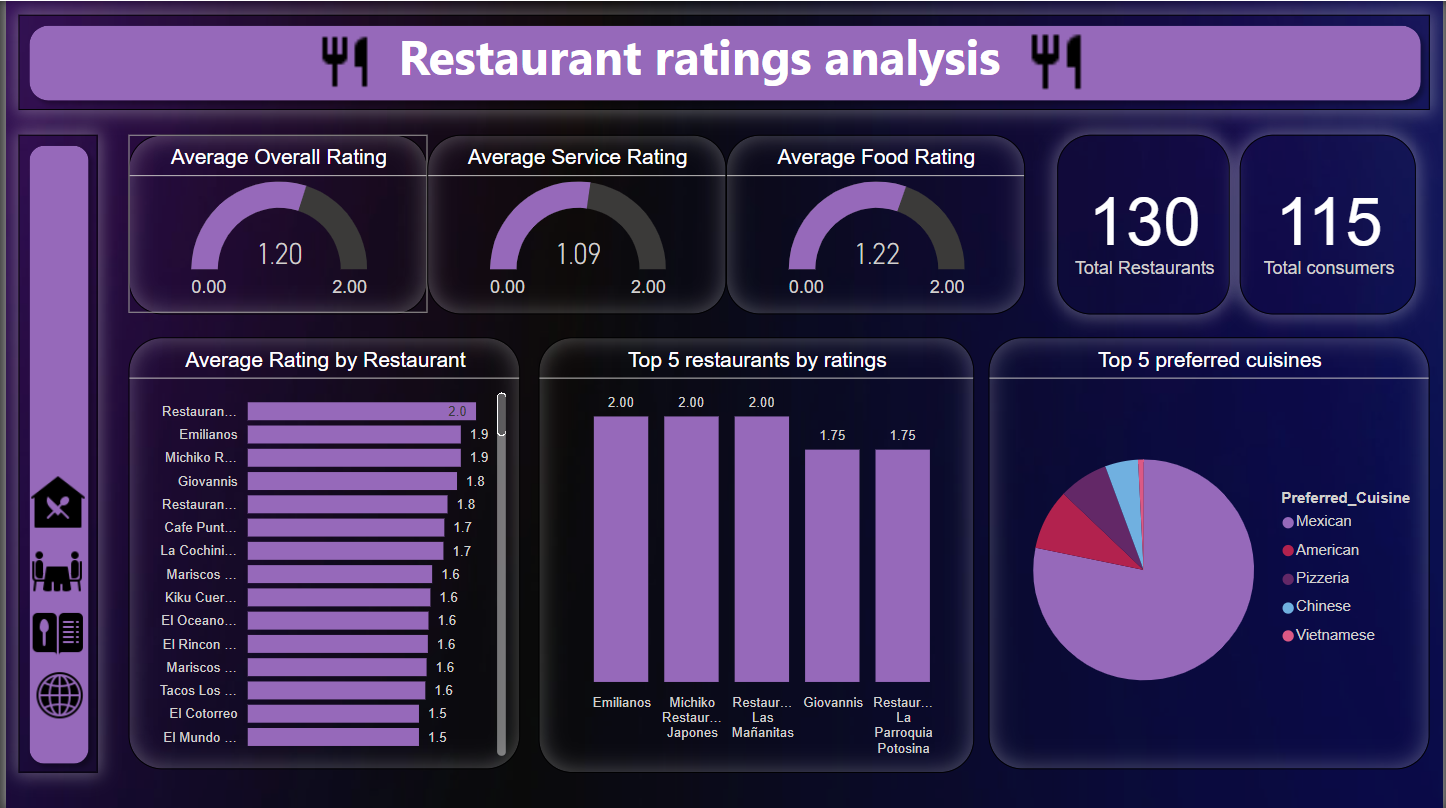

The dashboard page shown, as its layout file describes it:
{"tool":"powerbi","page":{"name":"Home page","canvas":[1280,720],"ordinal":0},"visuals":[{"type":"card","fields":{"Values":["CountNonNull(restaurants.Restaurant_ID)"]},"box":[936,119,153.4,159.7],"z":0},{"type":"card","fields":{"Values":["Count(consumers.Consumer_ID)"]},"box":[1098.8,119,156.5,159.7],"z":1000},{"type":"columnChart","title":"Top 5 restaurants by ratings","fields":{"Category":["restaurants.Name"],"Y":["Measures (2).Avg_of_overall_Rating"]},"box":[474.3,299,388.2,388.2],"z":2000},{"type":"shape","box":[11,12.5,1256.9,84.5],"z":3000},{"type":"shape","box":[11,119,70.4,568.2],"z":4000},{"type":"textbox","box":[0,14.1,1235,70.4],"z":5000},{"type":"pieChart","title":"Top 5 preferred cuisines","fields":{"Y":["Count(consumer_preferences.Consumer_ID)"],"Category":["dim_consumer_preferences.Preferred_Cuisine"]},"box":[875,299,392.9,385],"z":6000},{"type":"image","box":[270.8,18.8,62.6,70.4],"z":7000},{"type":"image","box":[901.6,18.8,67.3,70.4],"z":8000},{"type":"gauge","title":"Average Overall Rating","fields":{"Y":["Measures (2).Avg_of_overall_Rating"]},"box":[109.6,119,266.1,159.7],"z":9000},{"type":"image","box":[17.2,414.8,59.5,64.2],"z":10000},{"type":"image","box":[18.8,591.7,57.9,54.8],"z":11000},{"type":"image","box":[17.2,479,57.9,57.9],"z":12000},{"type":"image","box":[18.8,536.9,54.8,54.8],"z":13000},{"type":"barChart","title":"Average Rating by Restaurant","fields":{"Category":["dim_restaurants.Name"],"Y":["Measures (2).Average_of_total_rating"]},"box":[109.6,299,349,385],"z":14000},{"type":"gauge","title":"Average Service Rating","fields":{"Y":["Measures (2).Average_of_service_rating"]},"box":[375.7,119,266.1,159.7],"z":15000},{"type":"gauge","title":"Average Food Rating","fields":{"Y":["Measures (2).Average_of_food_rating"]},"box":[641.7,119,266.1,159.7],"z":16000}]}

Visuals, with their boxes in screenshot pixels (x1, y1, x2, y2), scaled from the page's 1280x720 canvas onto the 1446x808 screenshot:
card - CountNonNull(restaurants.Restaurant_ID): 1057/134/1231/313
card - Count(consumers.Consumer_ID): 1241/134/1418/313
"Top 5 restaurants by ratings" columnChart: 536/336/974/771
shape: 12/14/1432/109
shape: 12/134/92/771
textbox: 0/16/1395/95
"Top 5 preferred cuisines" pieChart: 988/336/1432/768
image: 306/21/377/100
image: 1019/21/1095/100
"Average Overall Rating" gauge: 124/134/424/313
image: 19/465/87/538
image: 21/664/87/726
image: 19/538/85/603
image: 21/603/83/664
"Average Rating by Restaurant" barChart: 124/336/518/768
"Average Service Rating" gauge: 424/134/725/313
"Average Food Rating" gauge: 725/134/1026/313
